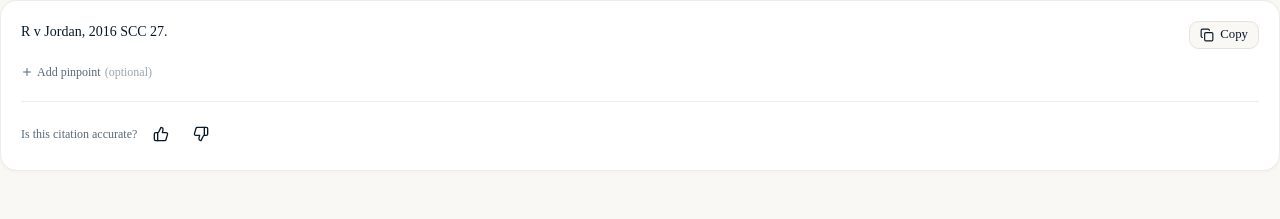
Test case: CitationCard — pinpoint add / edit / remove › shows user-provided notice when pinpoint is entered
Click the button "Add pinpoint (optional)" at [86, 72], box [21, 64, 152, 80]
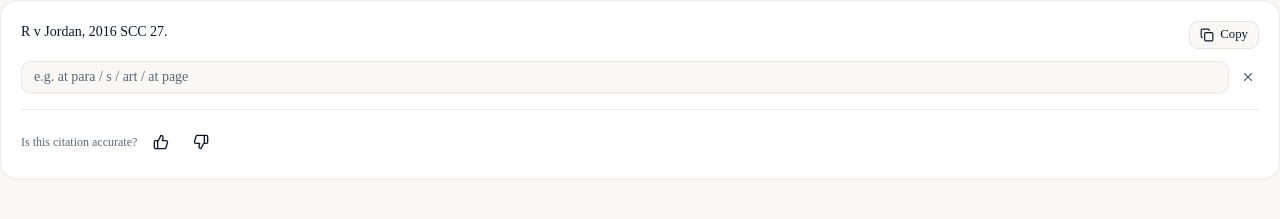
Type "s 7" into the field named "pinpoint reference" at [625, 77], box [21, 61, 1229, 93]
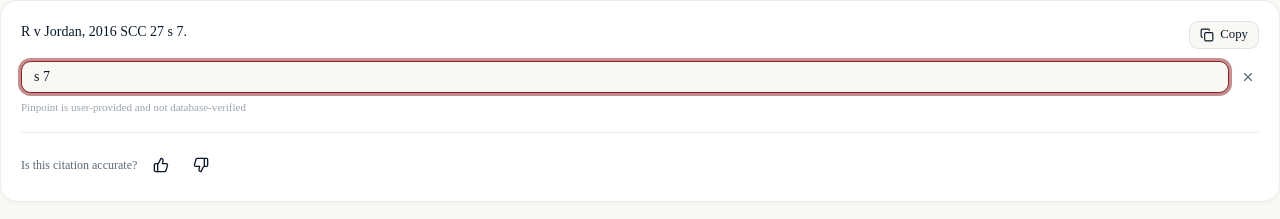
expect the text "Pinpoint is user-provided and not database-verified" is shown: met, box [21, 101, 246, 113]
